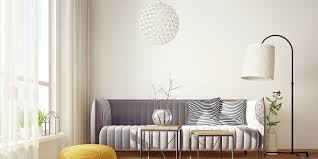Chair: (140, 124, 184, 159), (189, 129, 237, 159), (57, 143, 119, 159)
Lamp: (239, 33, 309, 159)
Sofa: (91, 98, 268, 159)
curtain: (0, 0, 40, 159), (49, 0, 90, 143)
